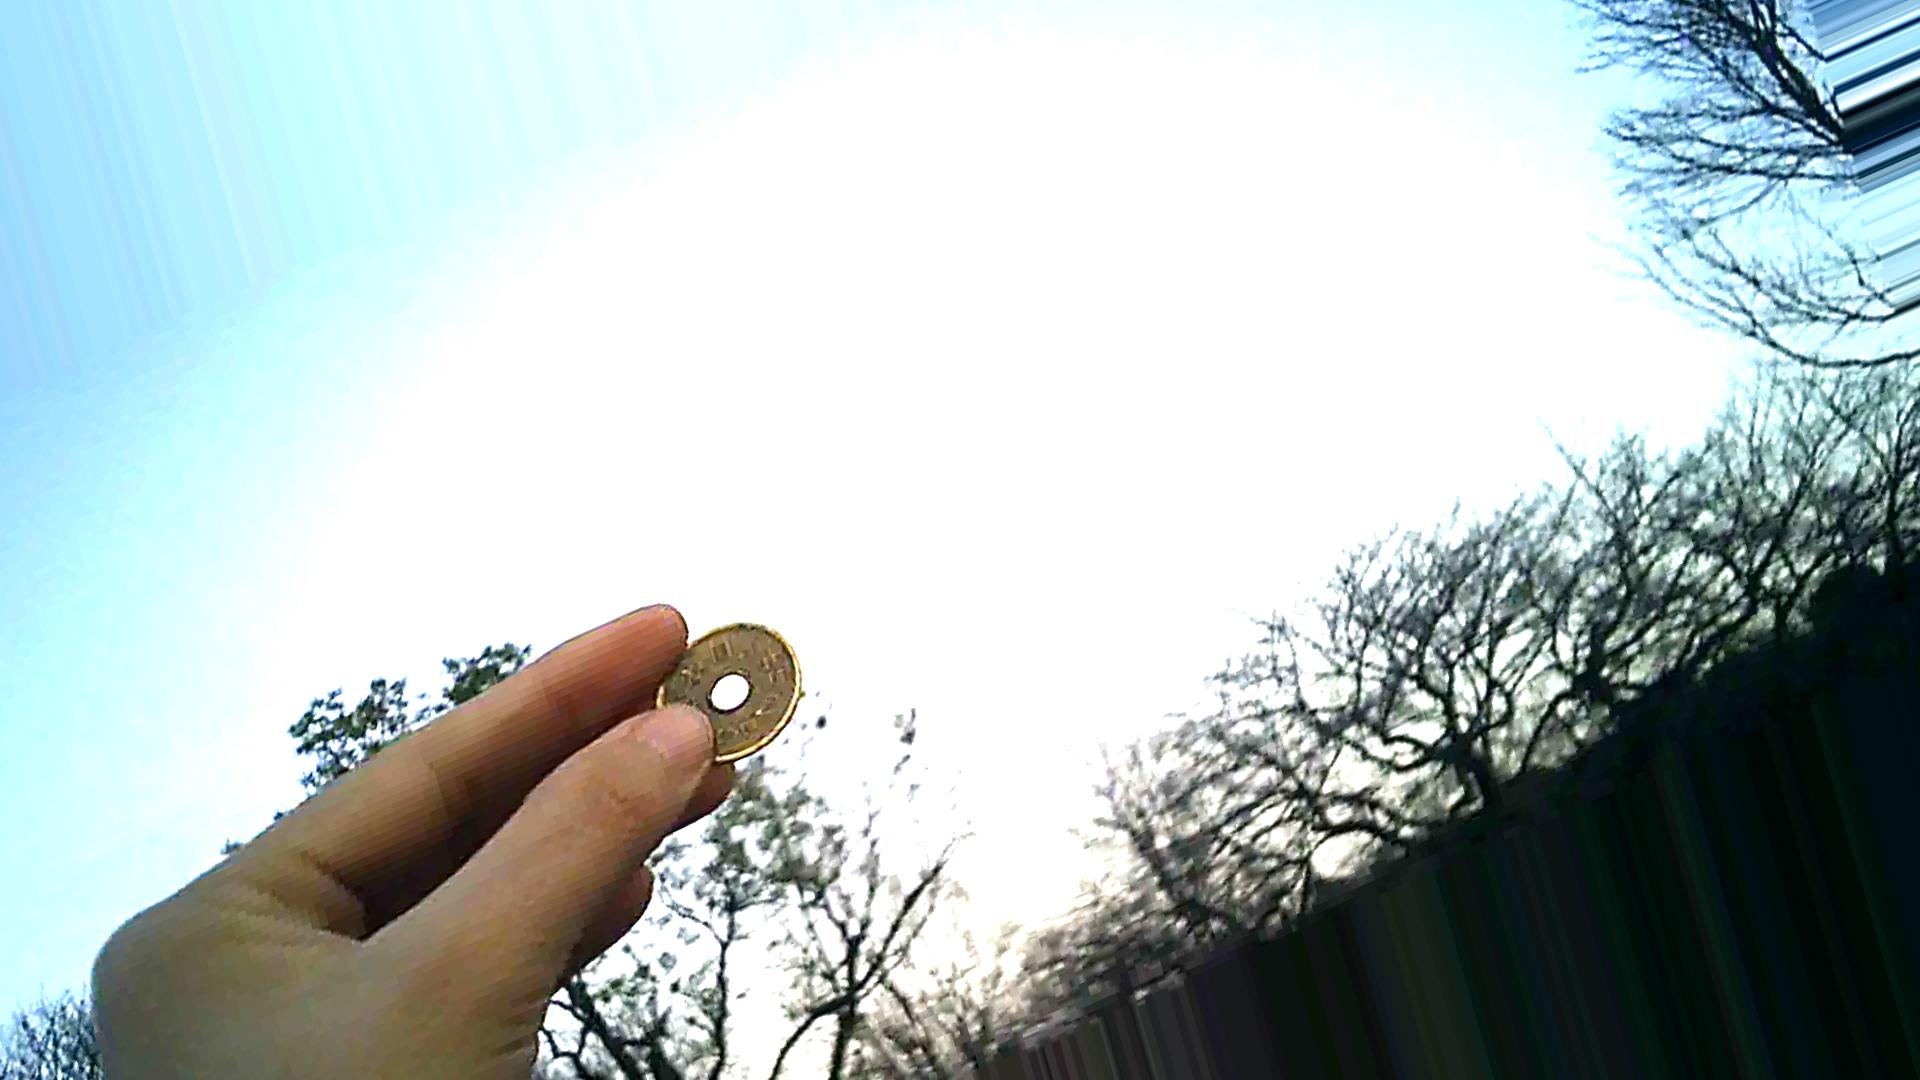5 Yen: (633, 601, 825, 769)
